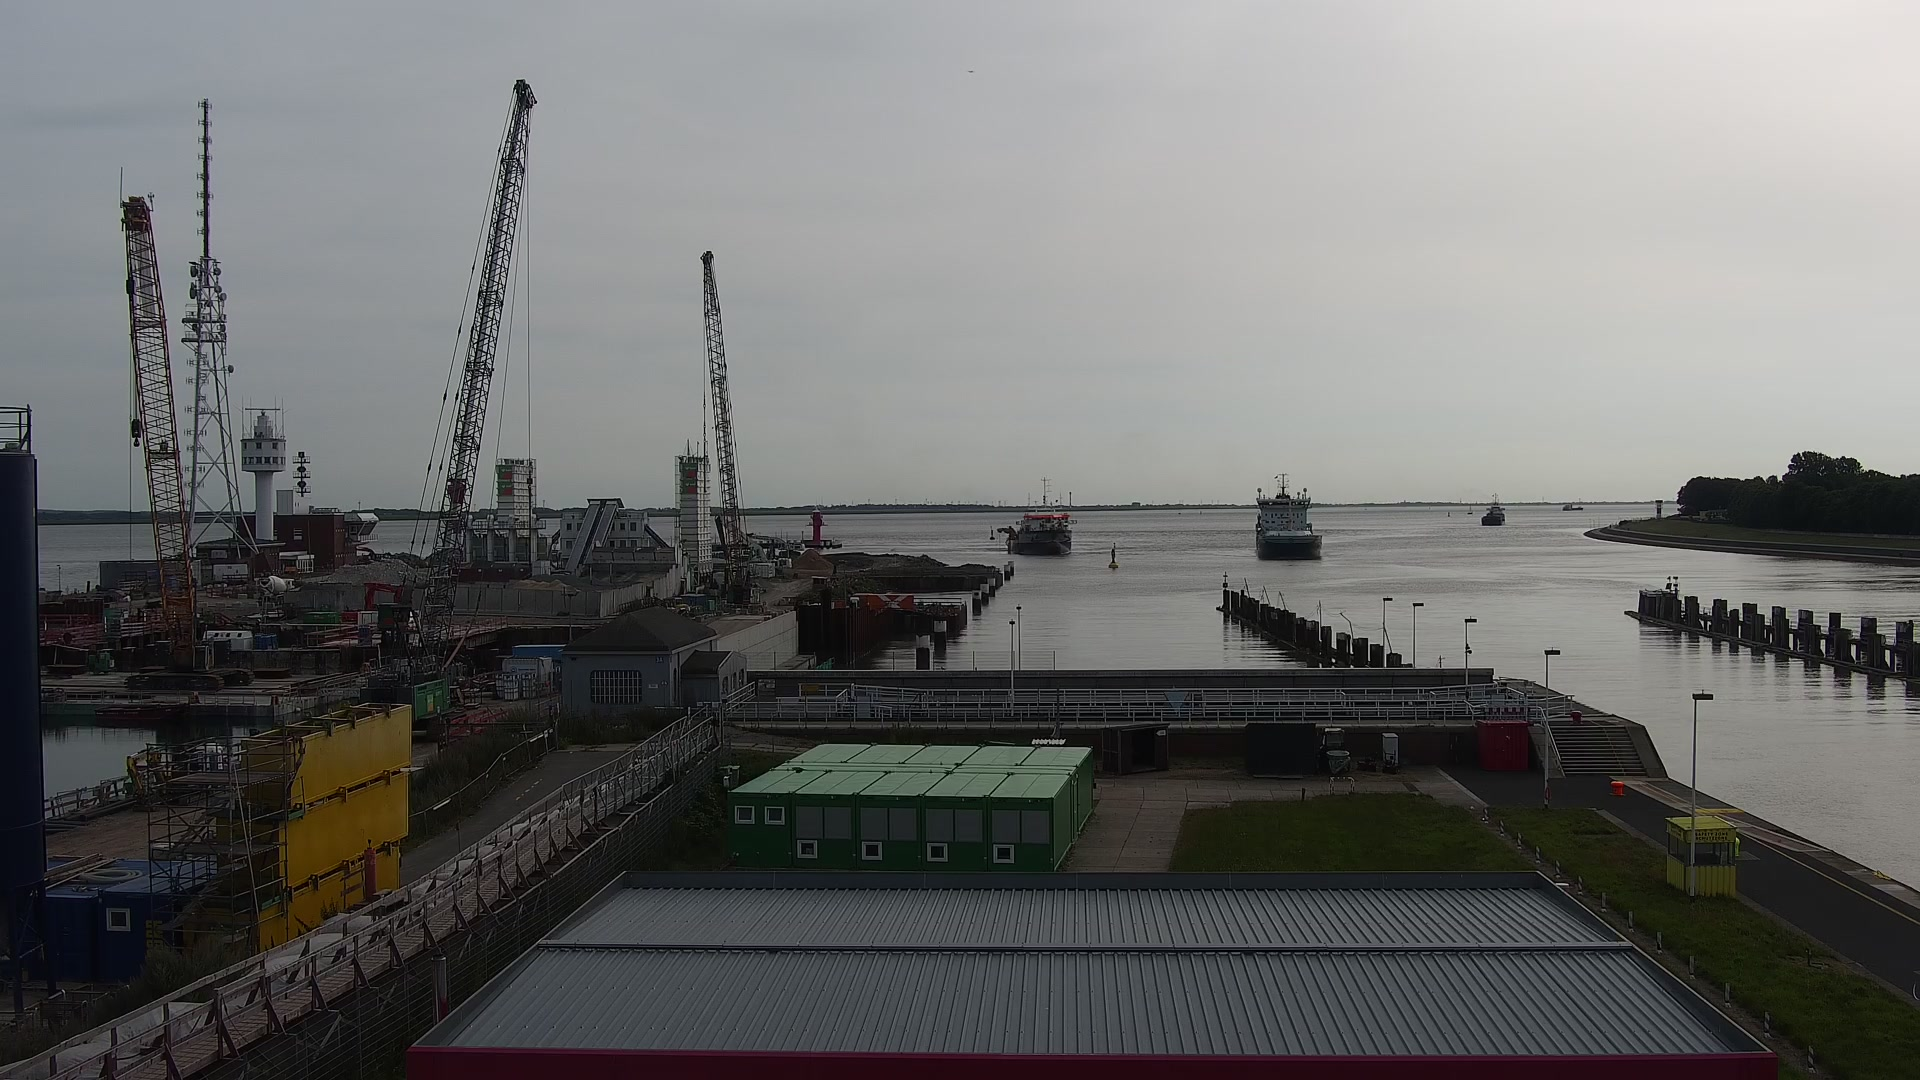land: (124, 742, 206, 811)
sea: (996, 476, 1077, 556), (1254, 473, 1323, 560), (1480, 492, 1506, 527), (1561, 502, 1582, 512), (1466, 504, 1473, 513)
